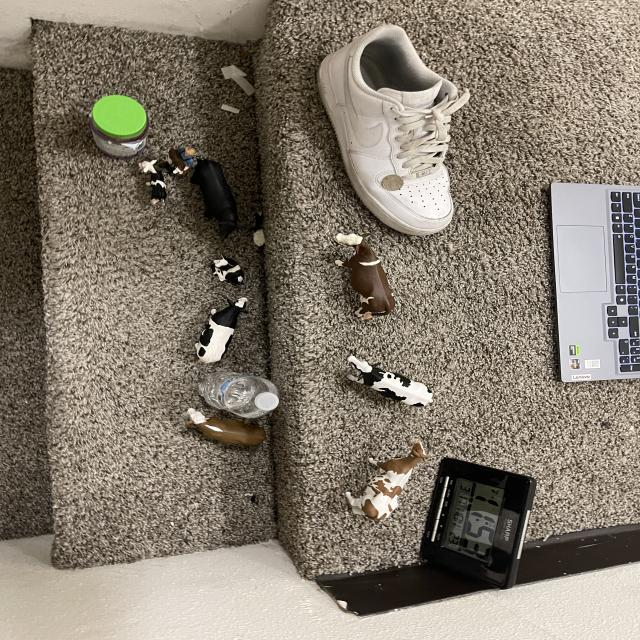cow: (338, 424, 436, 532), (324, 223, 401, 326), (339, 354, 438, 414), (184, 152, 247, 242), (189, 287, 250, 370), (181, 404, 270, 457), (207, 250, 248, 293), (138, 157, 171, 206), (164, 147, 187, 175)
person: (167, 146, 198, 176)
